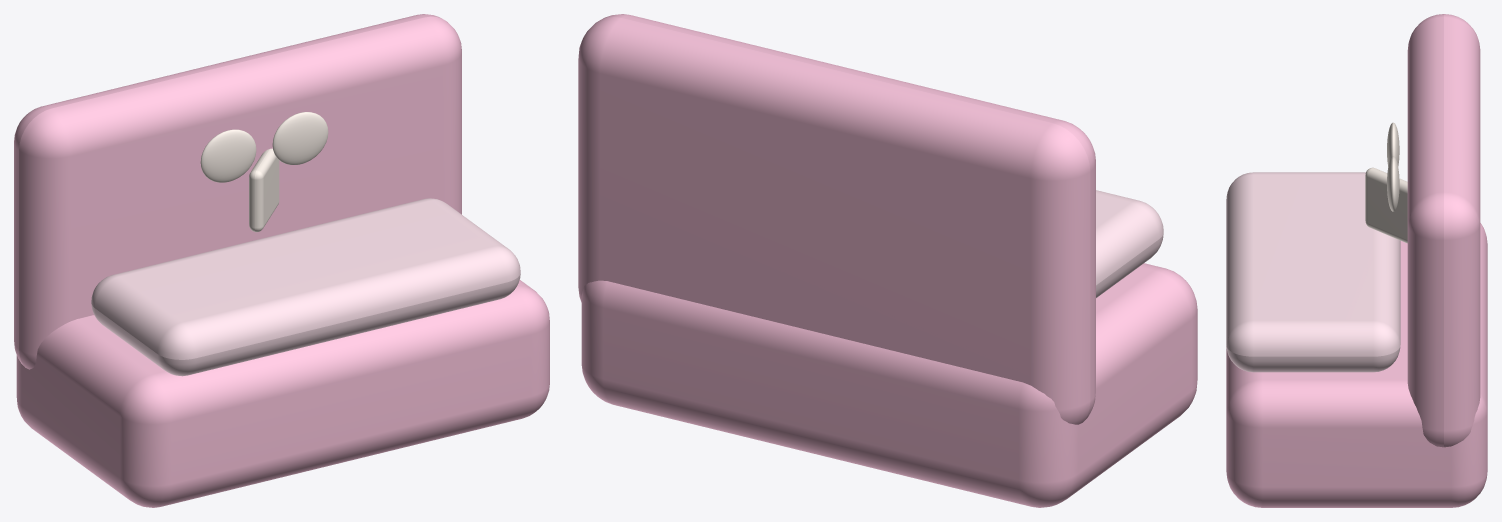
File: 粉色爱心小沙发.fbx
The picture shows the model from 3 angles, left to right: view 1: azimuth 30°, elevation 25°; view 2: azimuth 150°, elevation 25°; view 3: azimuth 270°, elevation 25°; orthographic projection. The views are drawn at different scales.
Parts seen in each view (by area): view 1: 粉色爱心小沙发_靠背, 粉色爱心小沙发_圆角底座, 粉色爱心小沙发_坐垫, 粉色爱心小沙发_左心半, 粉色爱心小沙发_右心半, 粉色爱心小沙发_心尖; view 2: 粉色爱心小沙发_靠背, 粉色爱心小沙发_圆角底座, 粉色爱心小沙发_坐垫; view 3: 粉色爱心小沙发_圆角底座, 粉色爱心小沙发_坐垫, 粉色爱心小沙发_靠背, 粉色爱心小沙发_心尖, 粉色爱心小沙发_右心半, 粉色爱心小沙发_左心半.
Part boxes in pixels (bbox=[...]): 粉色爱心小沙发_靠背: bbox=[14, 14, 461, 369]; 粉色爱心小沙发_圆角底座: bbox=[16, 280, 549, 507]; 粉色爱心小沙发_坐垫: bbox=[91, 198, 520, 376]; 粉色爱心小沙发_左心半: bbox=[200, 129, 256, 182]; 粉色爱心小沙发_右心半: bbox=[272, 112, 328, 164]; 粉色爱心小沙发_心尖: bbox=[249, 148, 279, 232]; 粉色爱心小沙发_靠背: bbox=[578, 14, 1095, 424]; 粉色爱心小沙发_圆角底座: bbox=[581, 263, 1197, 507]; 粉色爱心小沙发_坐垫: bbox=[1096, 190, 1163, 297]; 粉色爱心小沙发_圆角底座: bbox=[1226, 223, 1487, 507]; 粉色爱心小沙发_坐垫: bbox=[1226, 172, 1400, 372]; 粉色爱心小沙发_靠背: bbox=[1407, 14, 1480, 447]; 粉色爱心小沙发_心尖: bbox=[1365, 167, 1407, 243]; 粉色爱心小沙发_右心半: bbox=[1387, 156, 1399, 211]; 粉色爱心小沙发_左心半: bbox=[1387, 122, 1399, 166].
Bounding box in the file's own units: 134 × 96 × 72.
